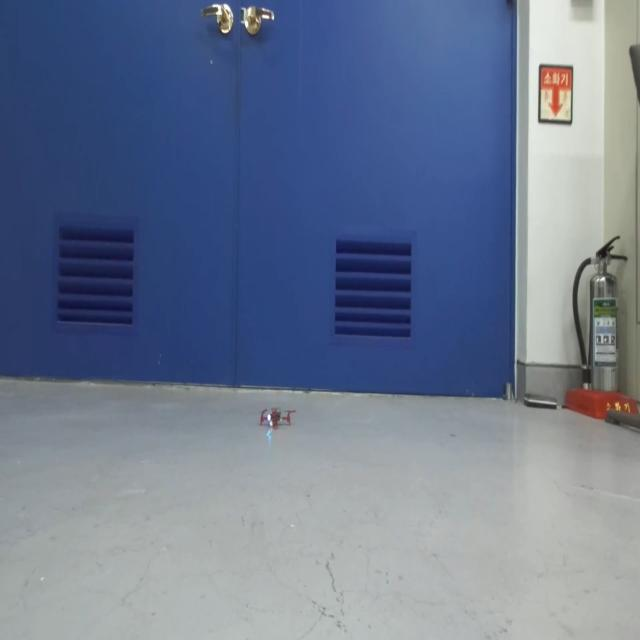crazyflie: (259, 404, 293, 436)
